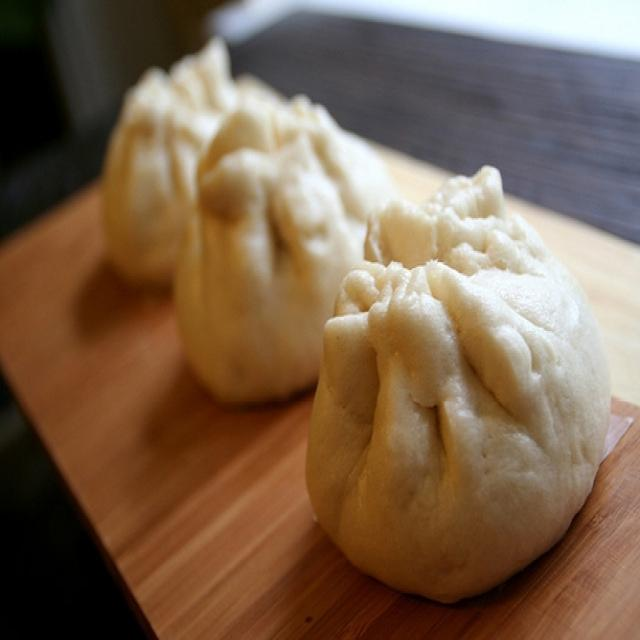带馅早点: (16, 35, 619, 599)
